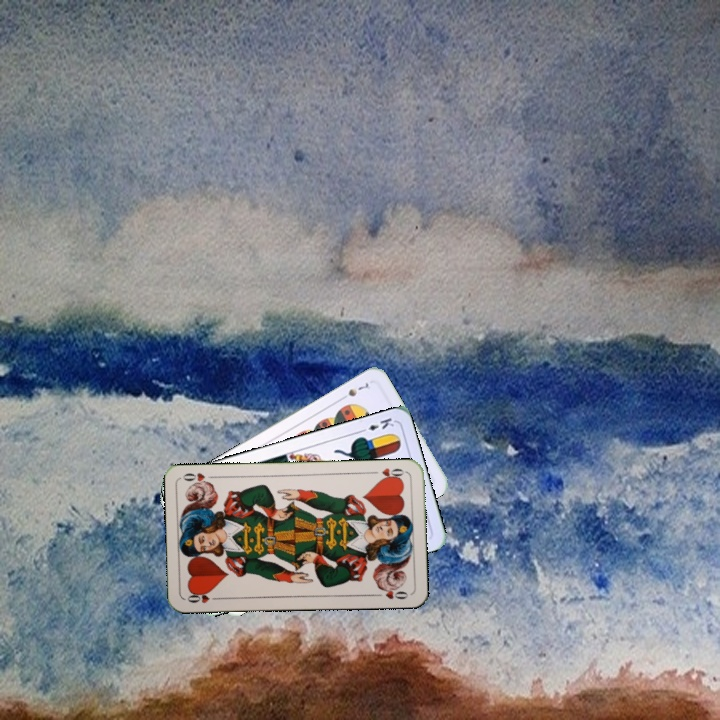EK: (356, 414, 397, 435)
HO: (368, 464, 408, 483), (183, 588, 223, 605)
S7: (336, 379, 373, 403)
